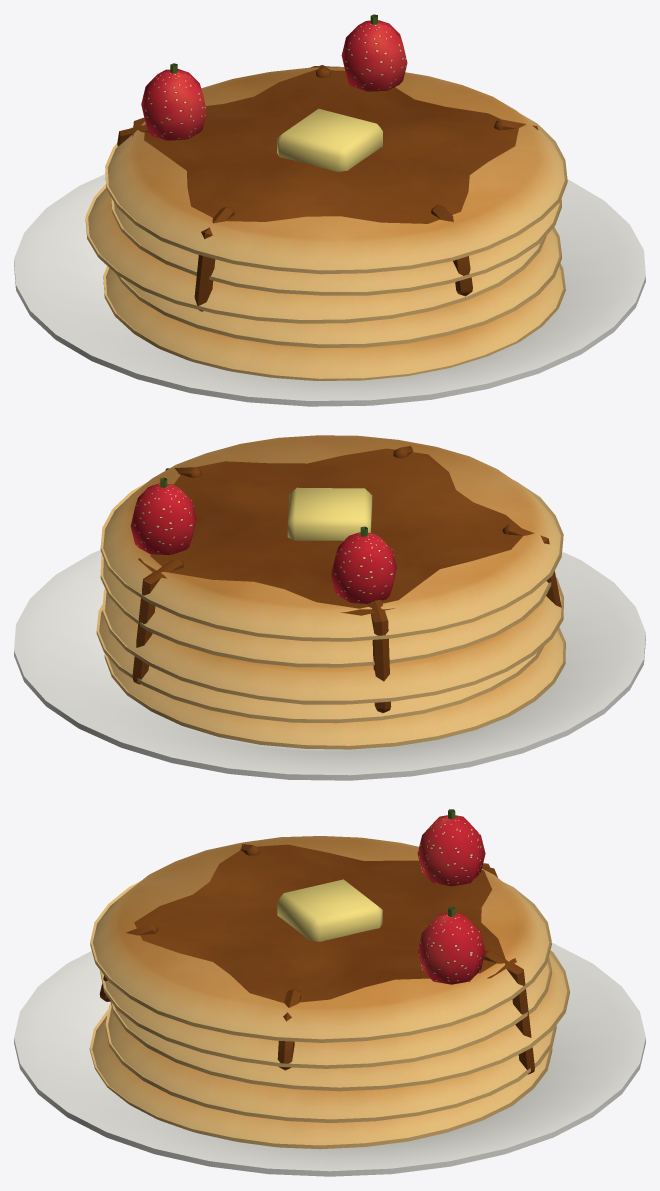
Rendered from bakery_pancake_stack.glb.
The picture shows the model from 3 angles, top to bottom: view 1: azimuth 30°, elevation 25°; view 2: azimuth 150°, elevation 25°; view 3: azimuth 270°, elevation 25°; orthographic projection.
Visible parts, largest first — view 1: bakery_pancake_stack; view 2: bakery_pancake_stack; view 3: bakery_pancake_stack.
Part boxes in pixels (x1,y1,x2,y2): bakery_pancake_stack: (14,14,645,406); bakery_pancake_stack: (14,435,645,780); bakery_pancake_stack: (14,809,645,1176).
Size of the model in its own units: 0.26 by 0.1016 by 0.26.
Materials: 6 (3 with a texture image).
